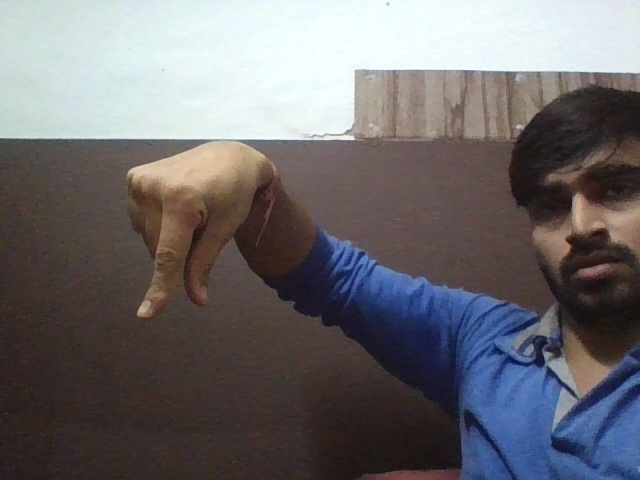Q: (120, 140, 276, 341)
